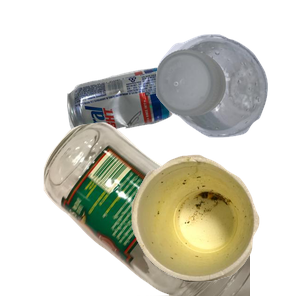glass: (41, 120, 281, 300)
metal: (65, 65, 231, 192)
plastic: (153, 31, 300, 161)
trash: (129, 152, 300, 300)
